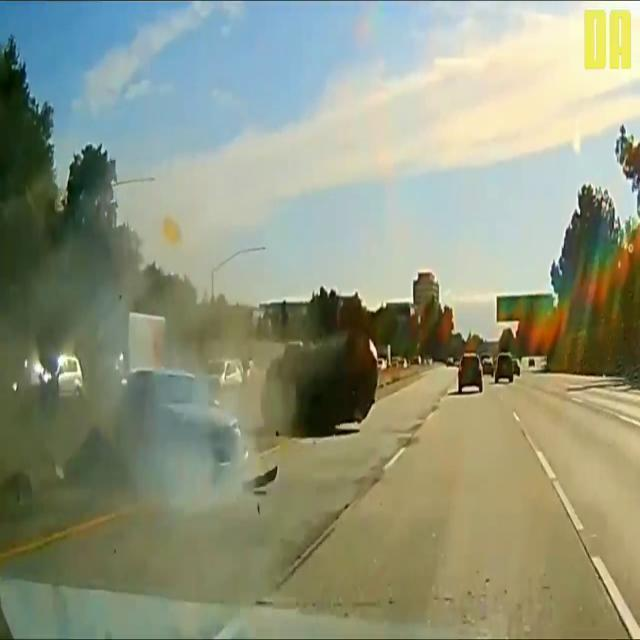accident: (93, 328, 379, 497)
non-accident: (458, 351, 520, 395), (203, 356, 265, 392)
